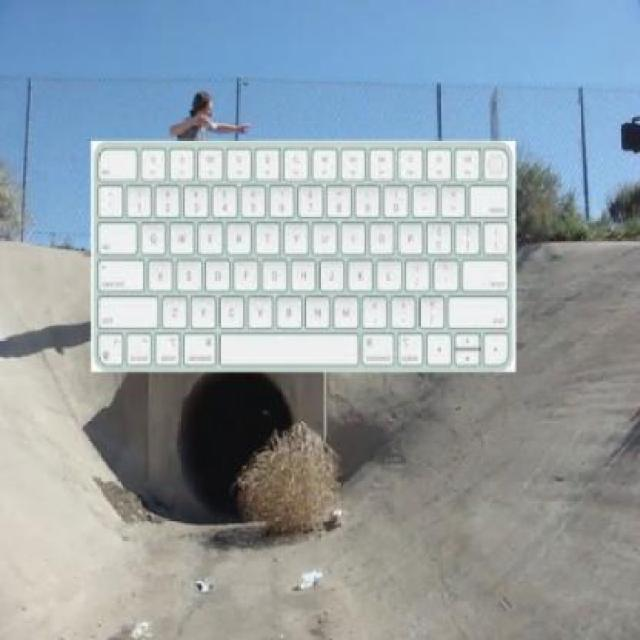keyboard: (82, 145, 520, 383)
